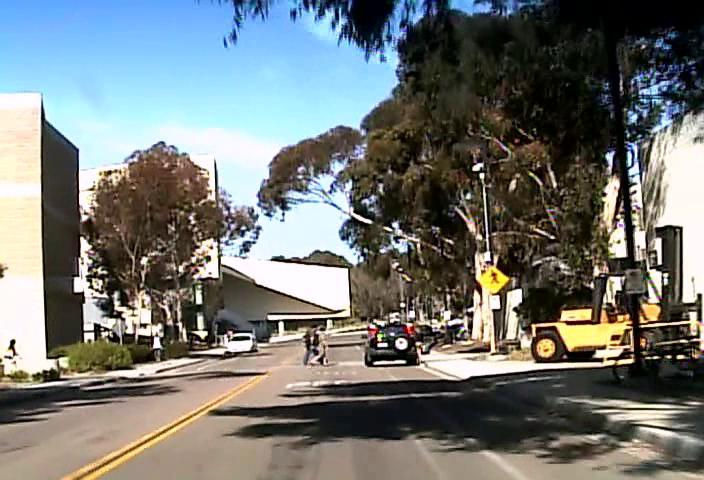pedestrianCrossing: (477, 264, 508, 293)
